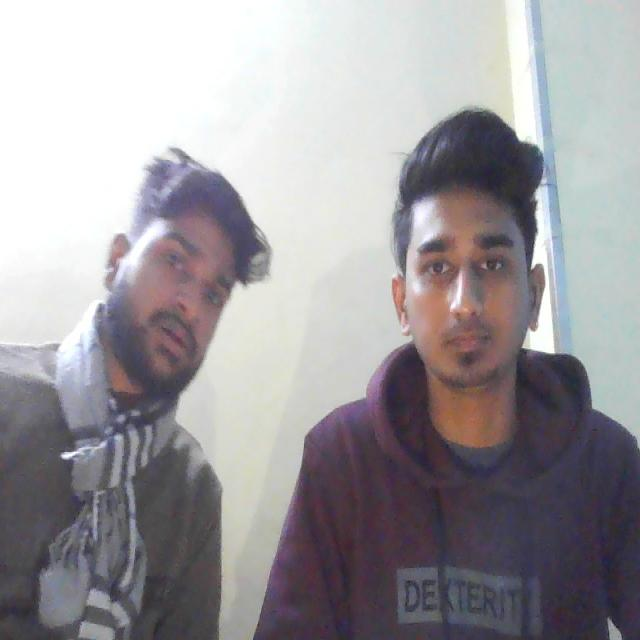real: (398, 124, 550, 411), (109, 157, 235, 395)
